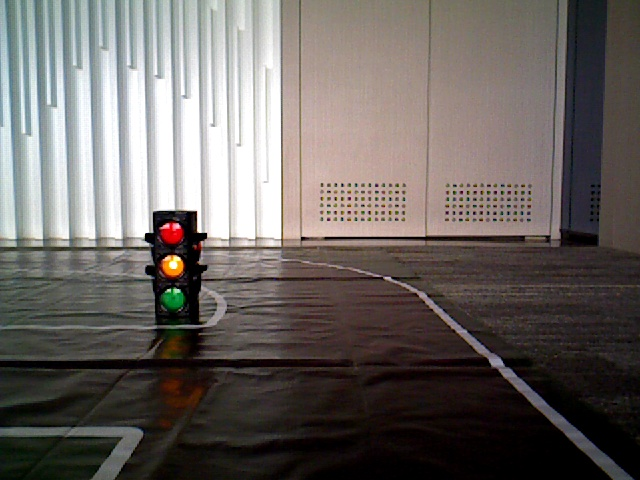yellow: (153, 217, 191, 318)
